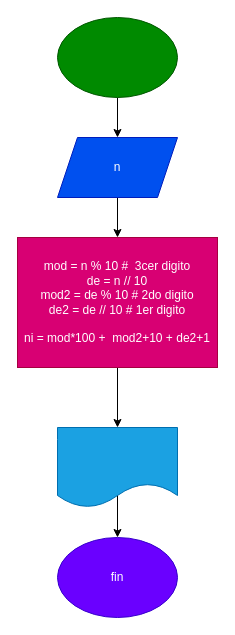
Image size: 235x635. Some labels were removed from this diagram. Each missing label, with the box of its shape:
inicio: (56, 16, 178, 98)
ni: (56, 426, 178, 508)
